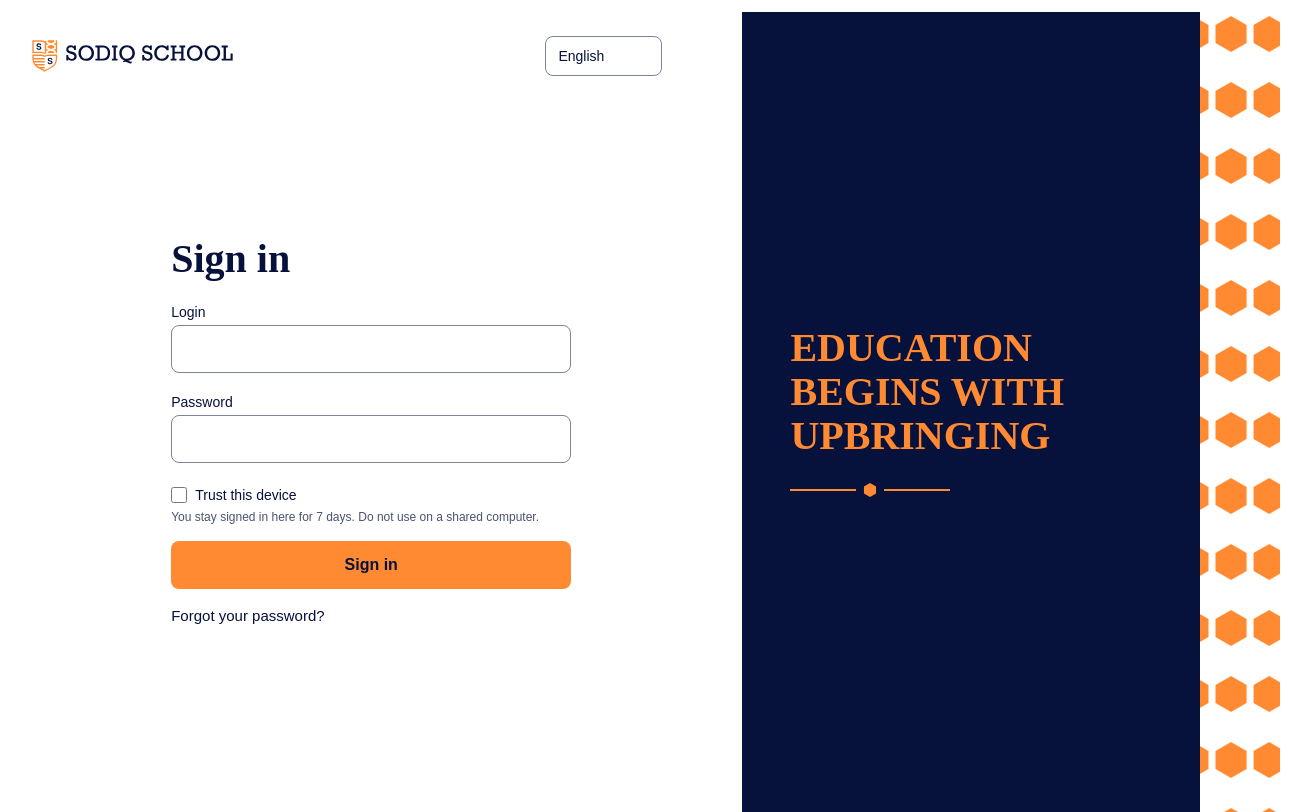
Test case: the sign-in page › goes on to the code page when the account has a second step
Type "a.karimov" into the field labelled "Login".
click(371, 349); type("a.karimov")  # box [171,325,571,373]
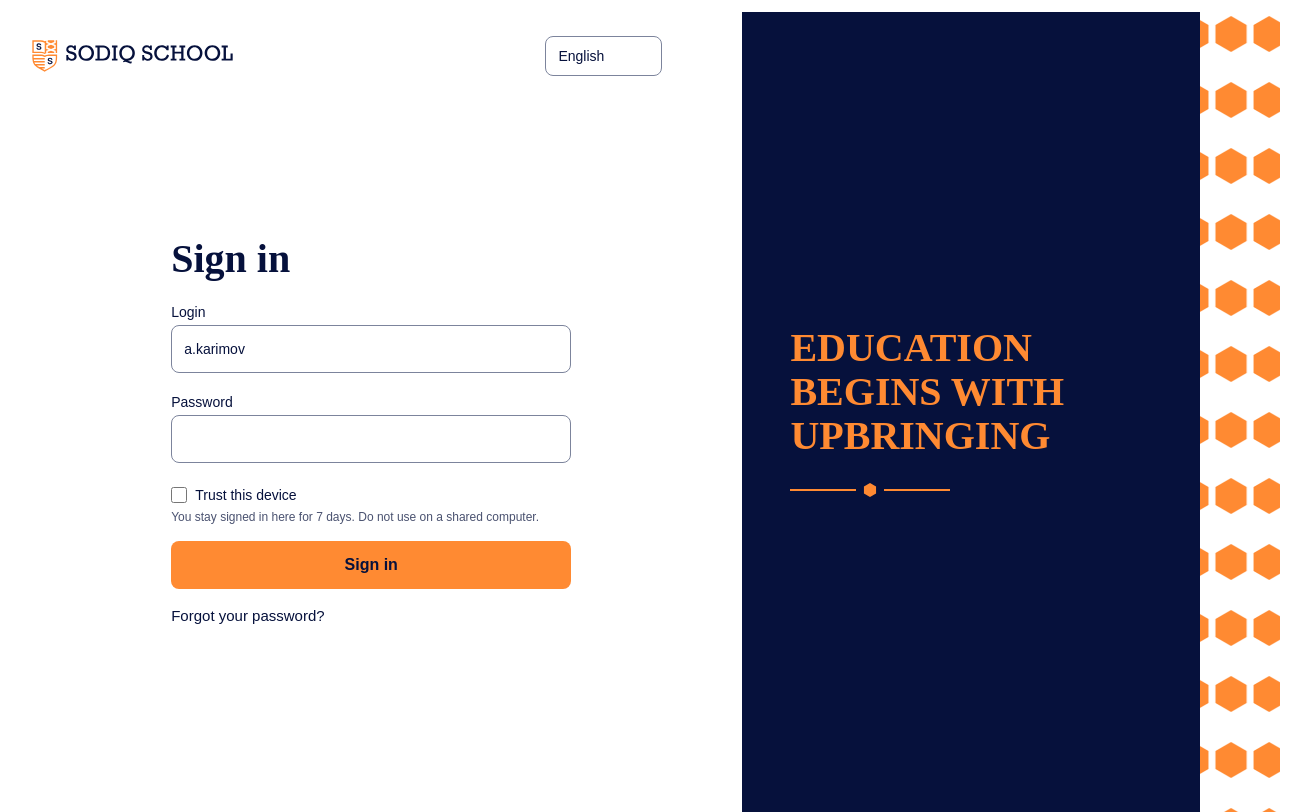
Type "the-password-1" into the password field labelled "Password".
click(371, 439); type("the-password-1")  # box [171,415,571,463]
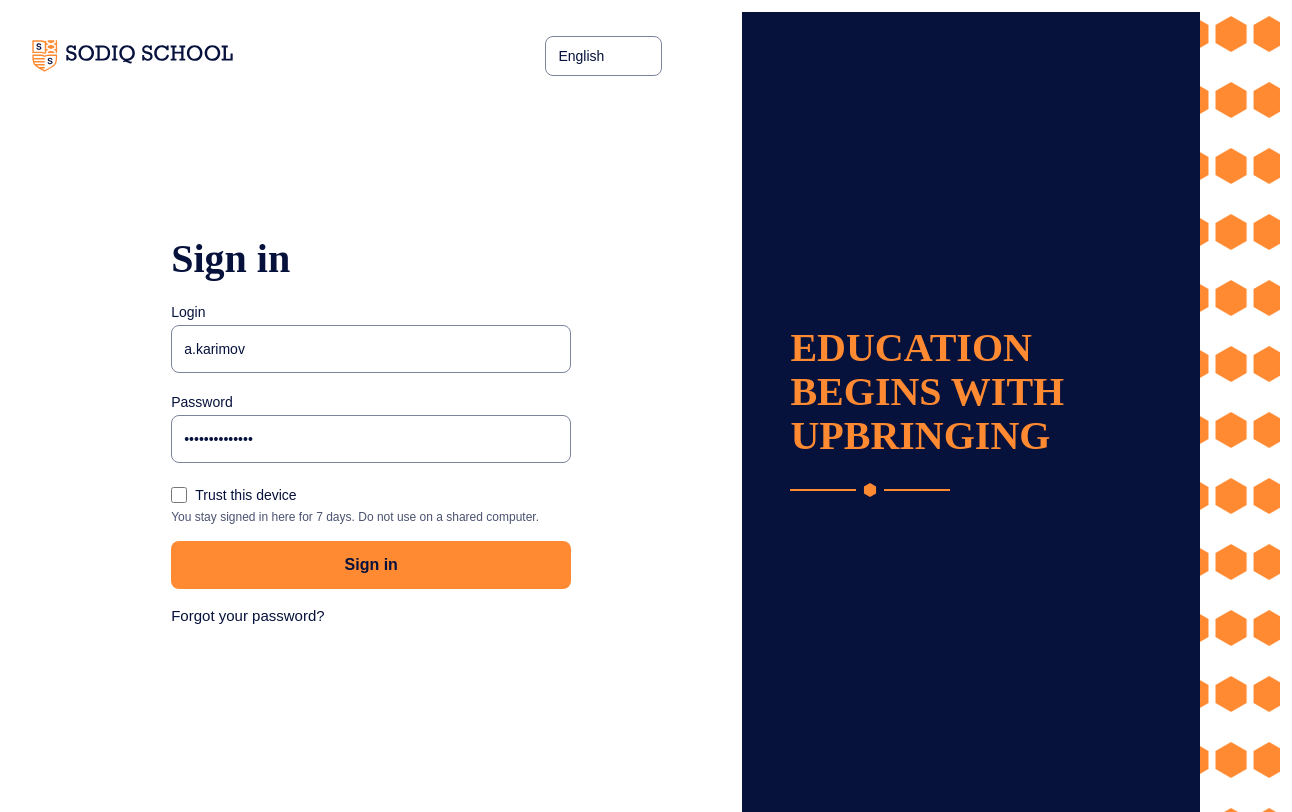
Click the button "Sign in".
click(371, 565)  # box [171,541,571,589]
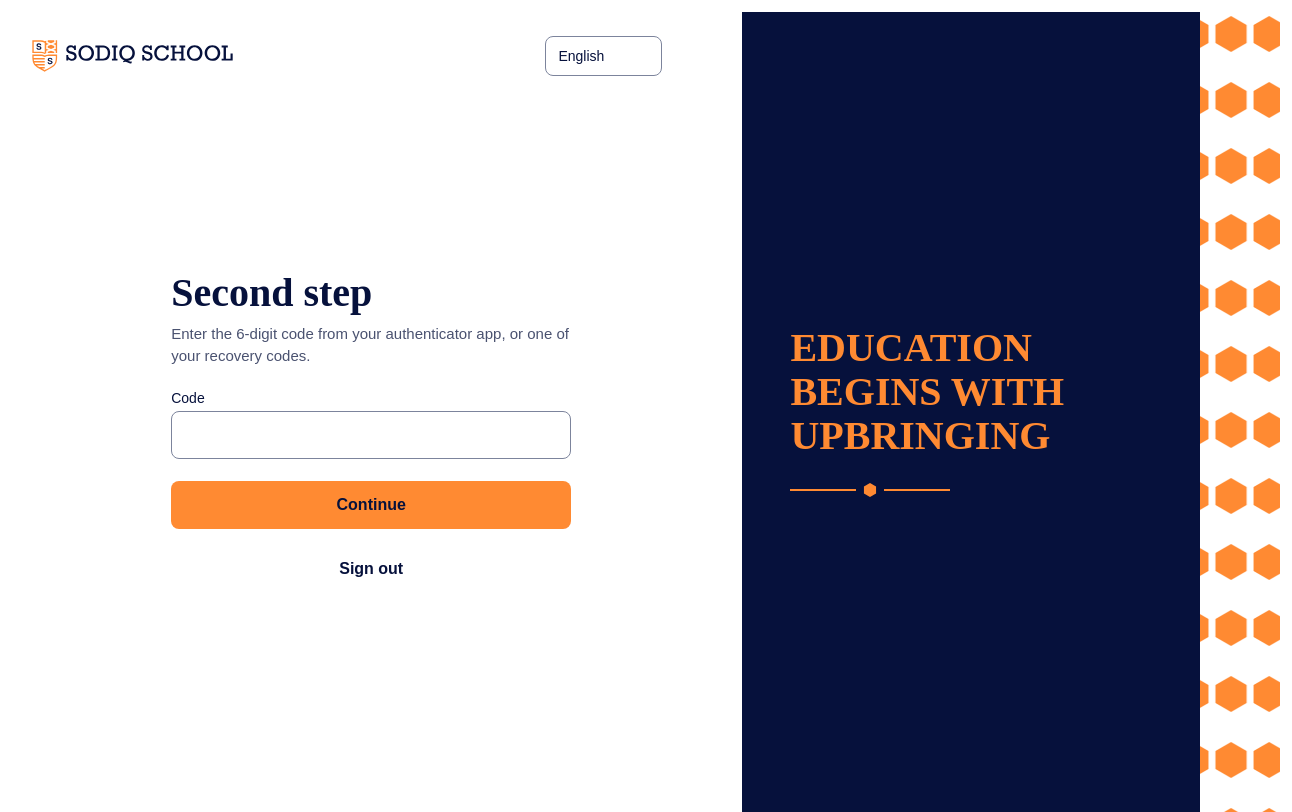
Expected: the heading "Second step" is shown, [171,270,372,315]
